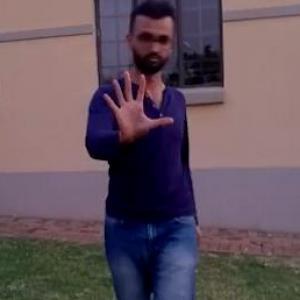follow_hand: (96, 66, 174, 149)
